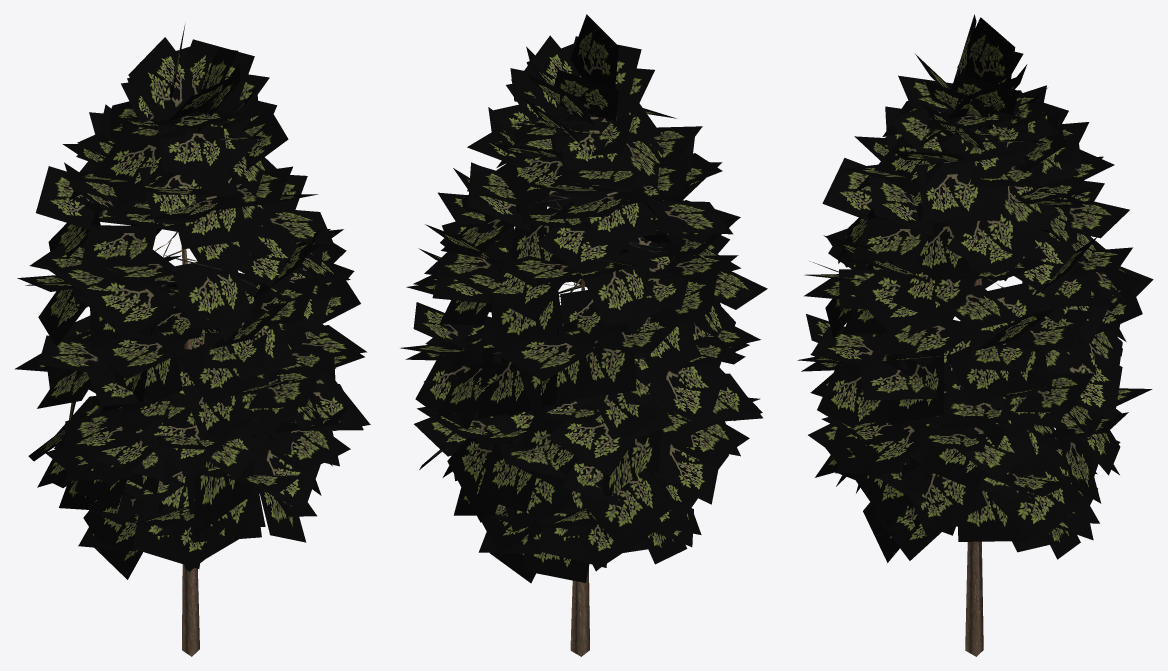
The model's file is tree_LOD1.glb.
3 renders of one model, left to right at view 1: azimuth 30°, elevation 25°; view 2: azimuth 150°, elevation 25°; view 3: azimuth 270°, elevation 25°, orthographic.
Parts seen in each view (by area): view 1: Paine tree 1 - low; view 2: Paine tree 1 - low; view 3: Paine tree 1 - low.
Boxes of the visible parts, x1,y1,x2,y2 form: Paine tree 1 - low: (14,24,370,656); Paine tree 1 - low: (400,14,767,656); Paine tree 1 - low: (797,14,1153,656).
Bounding box in the file's own units: 5.26 × 10.43 × 5.31.
2 materials, 2 textured.
